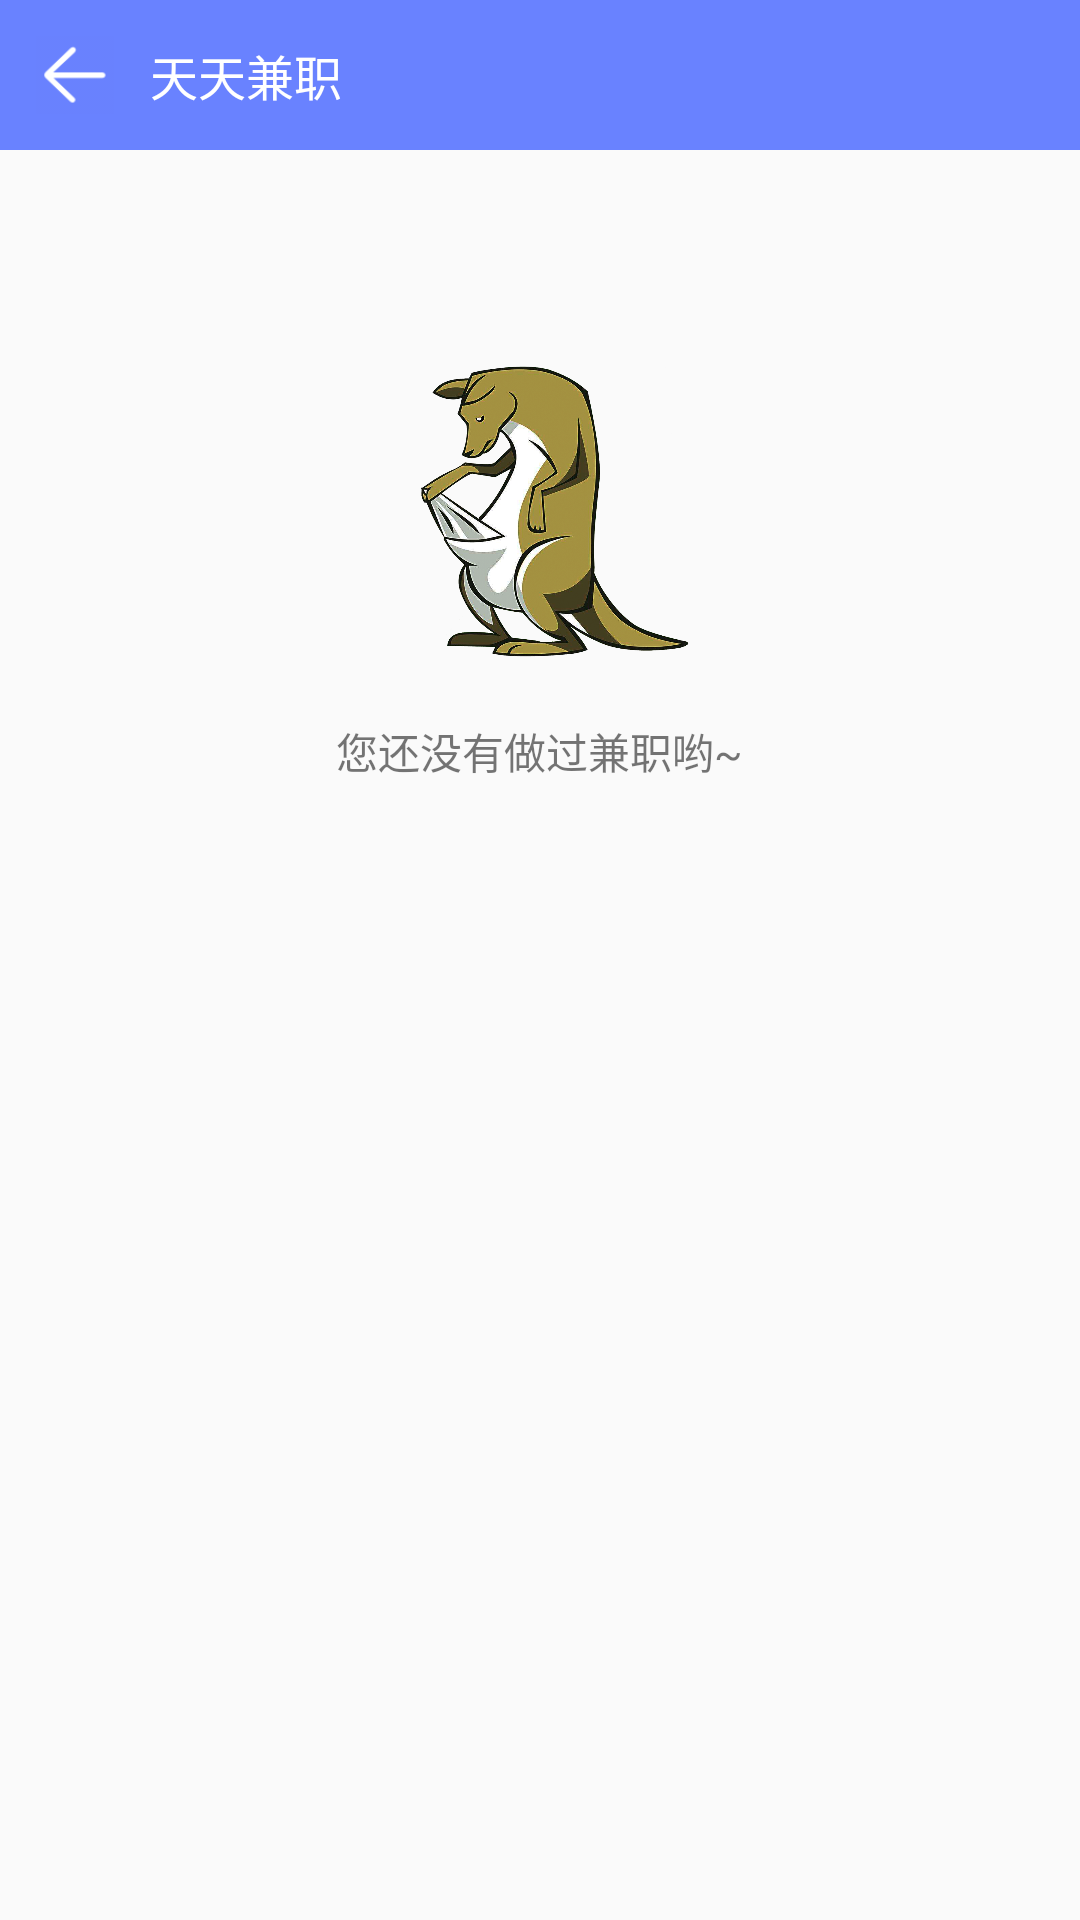

Where to tap for icons on this 1080×1920 app screen, as [x,y]:
back: [75,75]
no data: [554,511]
